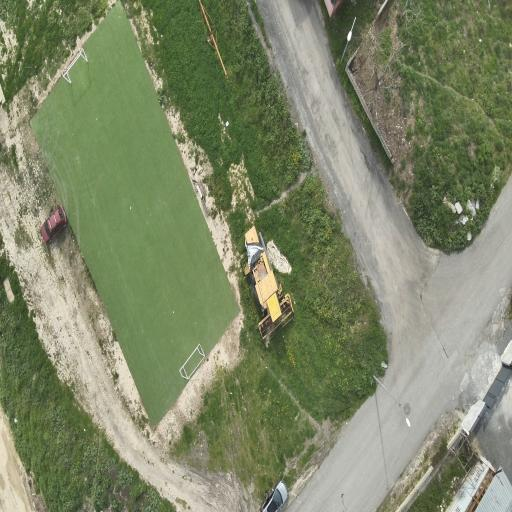car: (41, 206, 67, 243), (261, 481, 287, 511)
harvester: (245, 227, 293, 345)
